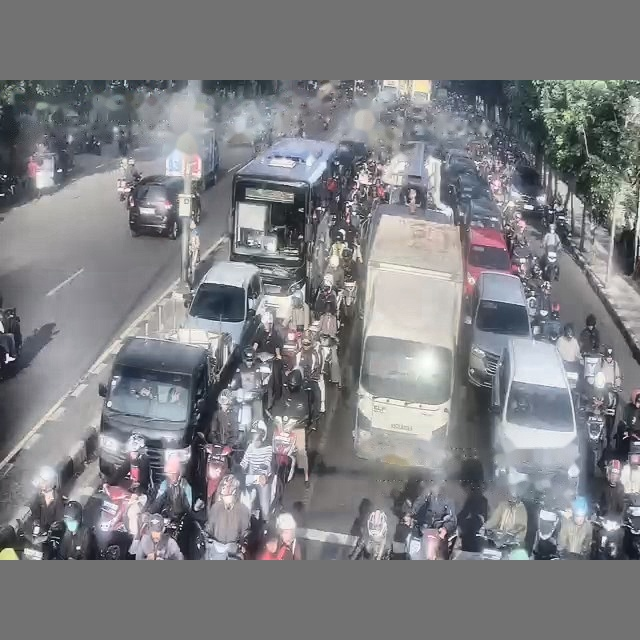Bis: (230, 138, 338, 316)
Mobil: (99, 337, 212, 479), (491, 338, 579, 498), (465, 271, 531, 387), (182, 261, 263, 352), (127, 175, 183, 238), (464, 227, 512, 296), (509, 165, 545, 214), (459, 196, 502, 229), (453, 172, 490, 205), (338, 139, 369, 164)
Truk: (353, 205, 462, 468)
